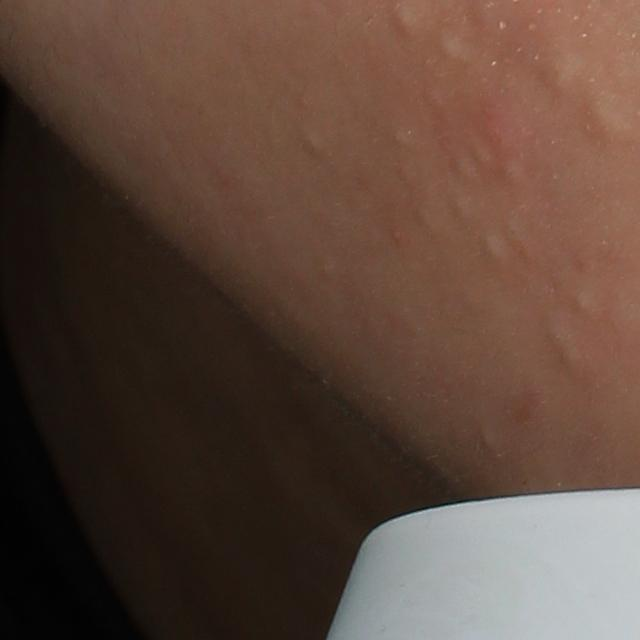comedo: (584, 97, 636, 146), (539, 52, 585, 100), (436, 29, 466, 63), (479, 234, 506, 270), (543, 316, 570, 351), (299, 128, 326, 159), (560, 346, 585, 374), (451, 155, 476, 182), (476, 427, 498, 455), (467, 142, 489, 169), (573, 289, 594, 315), (410, 208, 432, 232), (451, 196, 469, 221), (389, 128, 408, 149), (504, 161, 521, 184)
